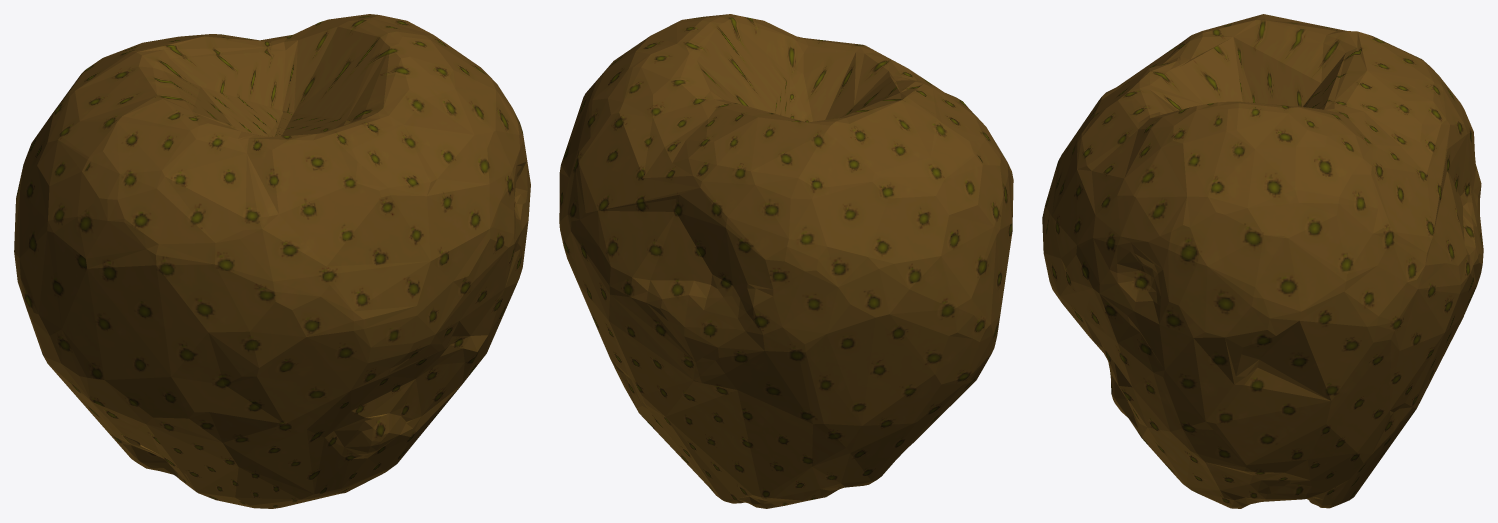
The picture shows the model from 3 angles, left to right: view 1: azimuth 30°, elevation 25°; view 2: azimuth 150°, elevation 25°; view 3: azimuth 270°, elevation 25°; orthographic projection. The views are drawn at different scales.
Parts seen in each view (by area): view 1: _002_Meshed; view 2: _002_Meshed; view 3: _002_Meshed.
Part boxes in pixels (x1,y1,x2,y2): _002_Meshed: (14, 14, 530, 508); _002_Meshed: (559, 14, 1013, 508); _002_Meshed: (1042, 14, 1483, 508).
Bounding box in the file's own units: 0.1 × 0.0879 × 0.0956.
Materials: 1 (1 with a texture image).
